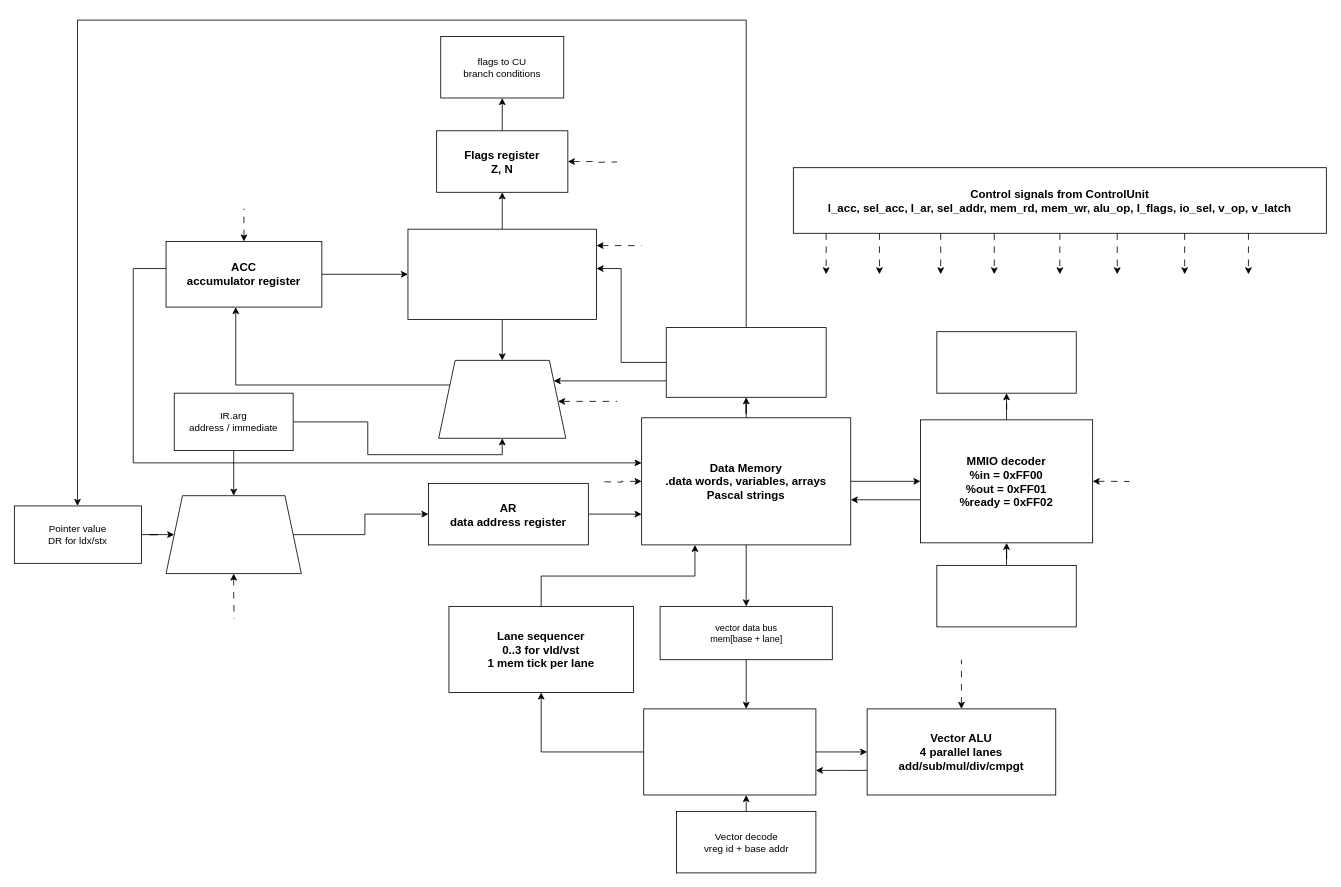
This 1341x887 diagram has some shape labels left out. Each missing label, with the box of its shape:
ACC MUX ALU / mem / IR.arg / addr: (438, 360, 566, 438)
Address MUX IR.arg / DR: (165, 495, 301, 574)
ALU add sub mul div mod cmp: (407, 228, 597, 319)
DR data register mem_out / operand: (665, 327, 826, 397)
Input schedule trap token source: (936, 565, 1076, 627)
Output buffer chars from %out: (936, 331, 1076, 393)
Vector register file v0..v15 4 lanes each: (643, 708, 816, 795)
